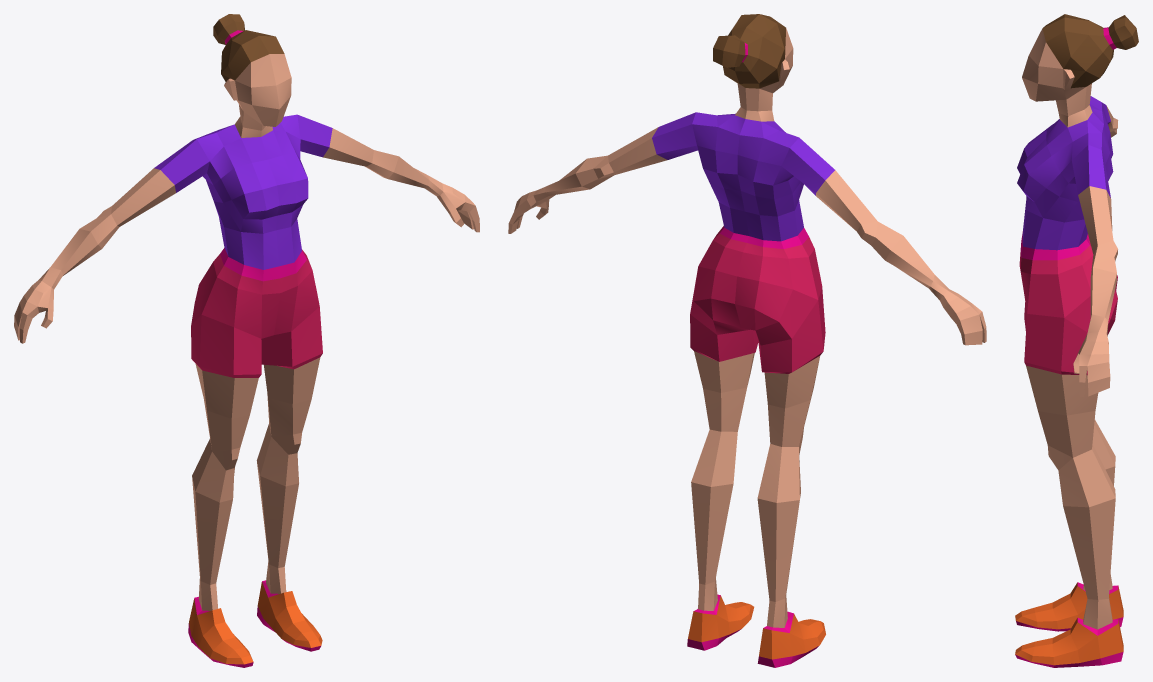
File: fiendfemale.fbx
The picture shows the model from 3 angles, left to right: view 1: azimuth 30°, elevation 25°; view 2: azimuth 150°, elevation 25°; view 3: azimuth 270°, elevation 25°; orthographic projection. The views are drawn at different scales.
Parts seen in each view (by area): view 1: pasted__Object_199; view 2: pasted__Object_199; view 3: pasted__Object_199.
Part boxes in pixels (x1,y1,x2,y2): pasted__Object_199: [14, 14, 479, 667]; pasted__Object_199: [508, 14, 986, 667]; pasted__Object_199: [1015, 14, 1138, 667].
Bounding box in the file's own units: 39.72 × 50.5 × 9.06.
